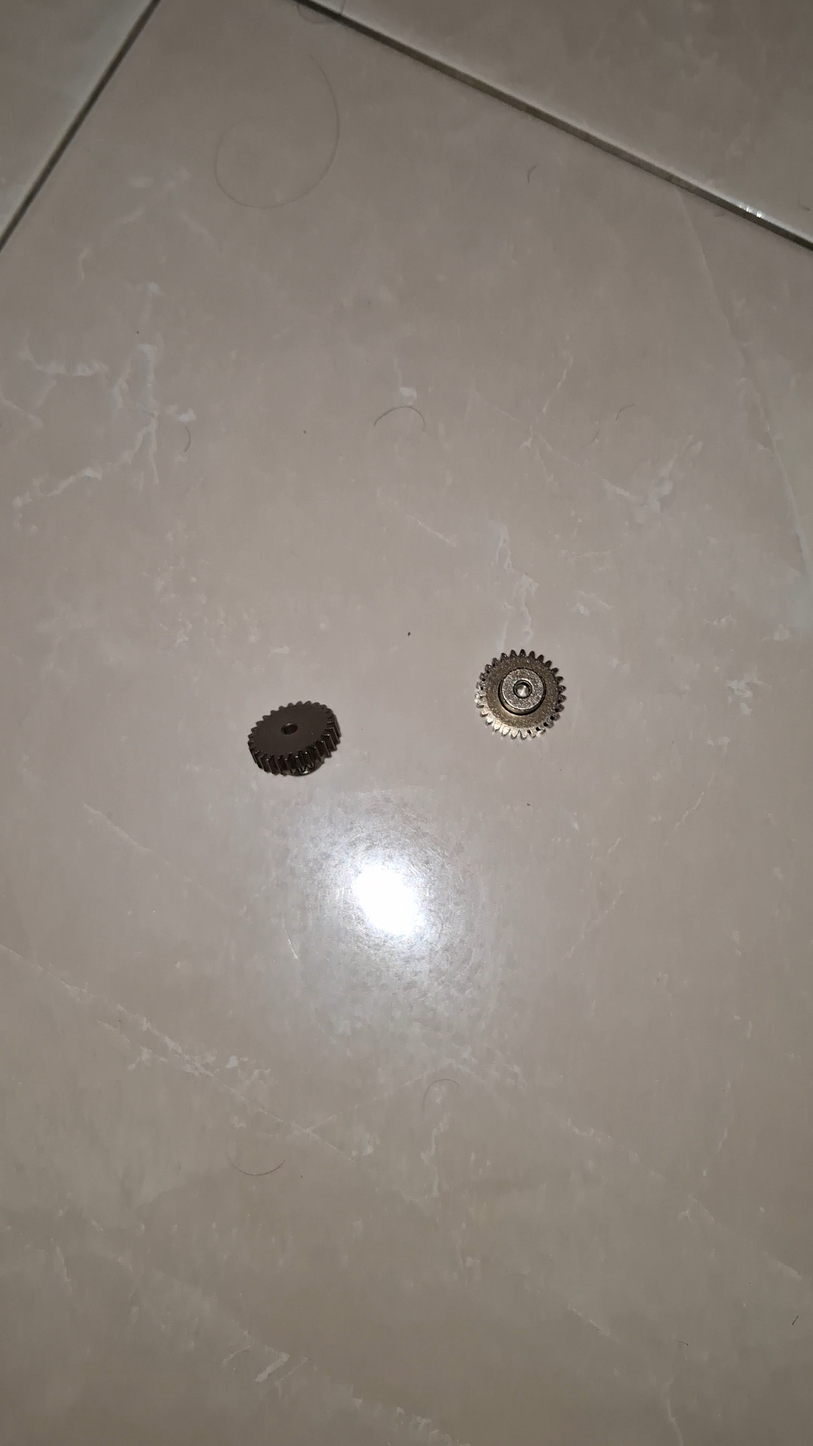spur gear: (476, 650, 565, 738), (248, 702, 340, 775)
